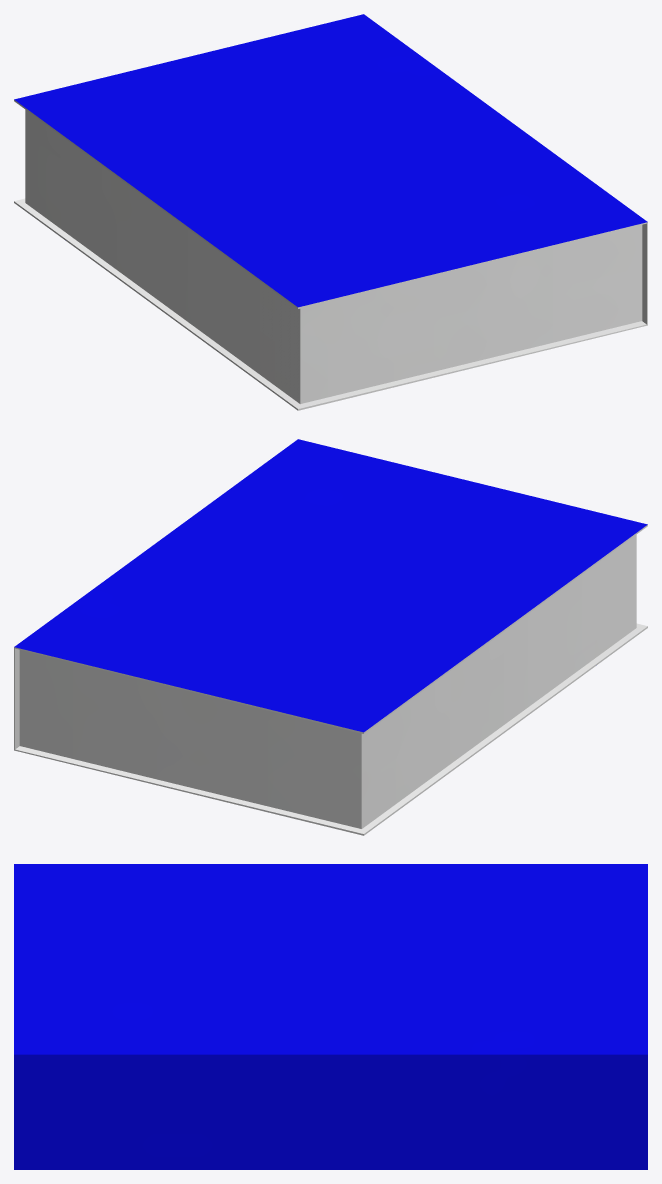
The model's file is Book_6.fbx.
3 renders of one model, top to bottom at view 1: azimuth 30°, elevation 25°; view 2: azimuth 150°, elevation 25°; view 3: azimuth 270°, elevation 25°, orthographic. The views are drawn at different scales.
Parts seen in each view (by area): view 1: Book 6; view 2: Book 6; view 3: Book 6.
Boxes of the visible parts, left/top/right/bottom form: Book 6: left=14, top=14, right=647, bottom=410; Book 6: left=14, top=439, right=647, bottom=835; Book 6: left=14, top=864, right=647, bottom=1169.
Bounding box in the file's own units: 21.61 × 6.1 × 30.4.
